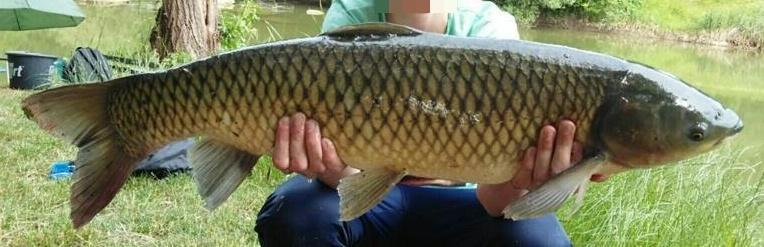Grass Carp: (16, 24, 744, 226)
